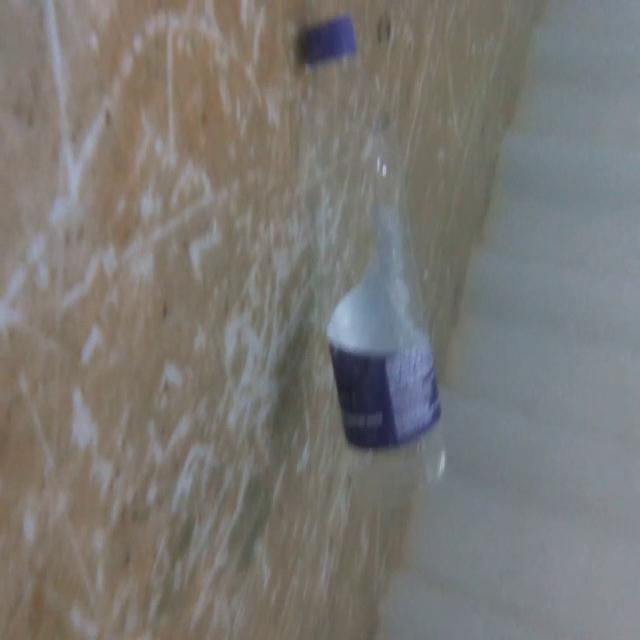plastic bottle: (292, 12, 459, 510)
